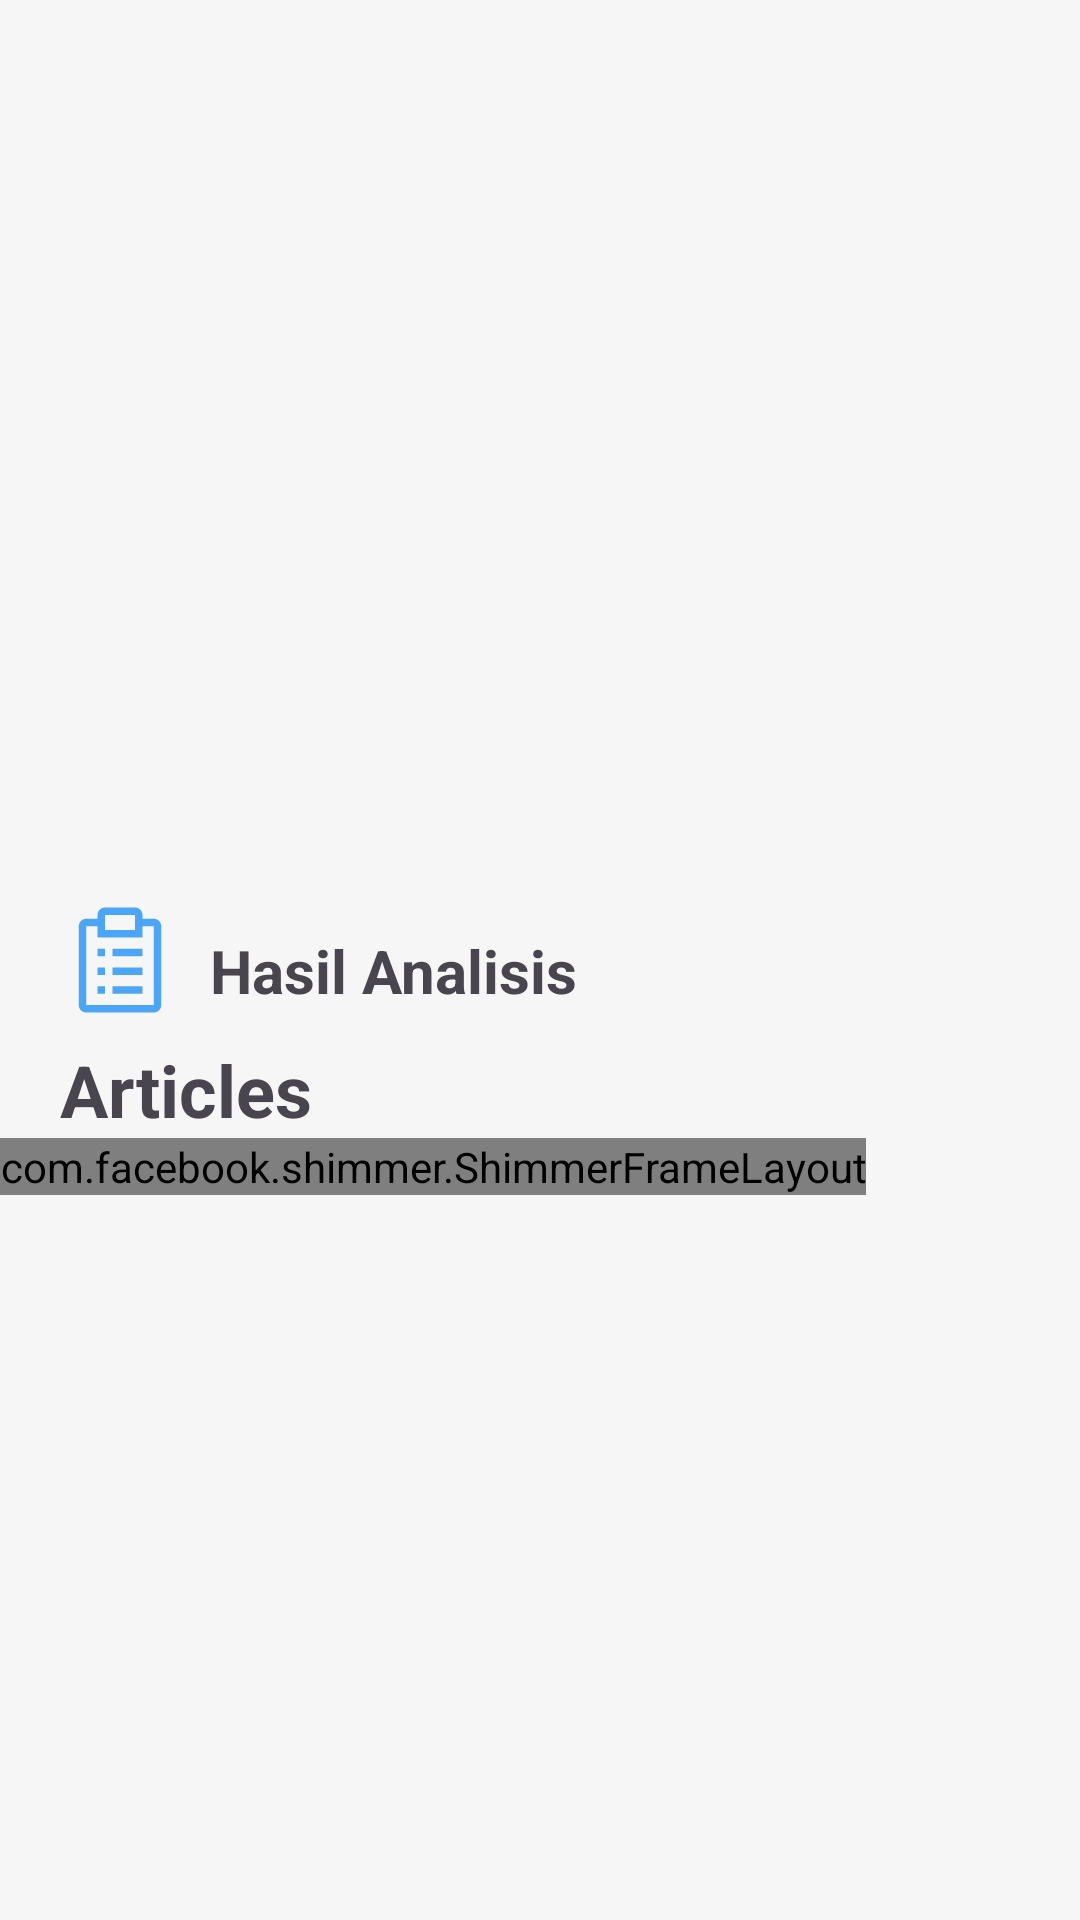

Locate icon controls on the screen. Image size 1080×1920, boxes as [x1, y1, x2, y2].
carbon result: [78, 907, 162, 1013]
